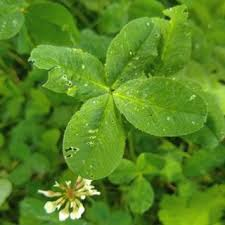4-clover: (32, 14, 207, 182)
